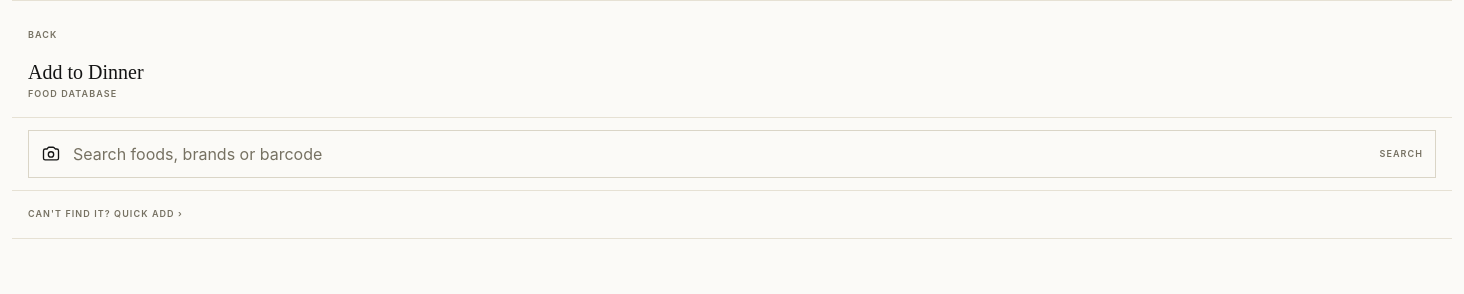
FoodPicker › shows a searching state while the database lookup is in flight
Type "skyr" into the search field. click: (720, 154)
box: 73,142 -> 1368,166
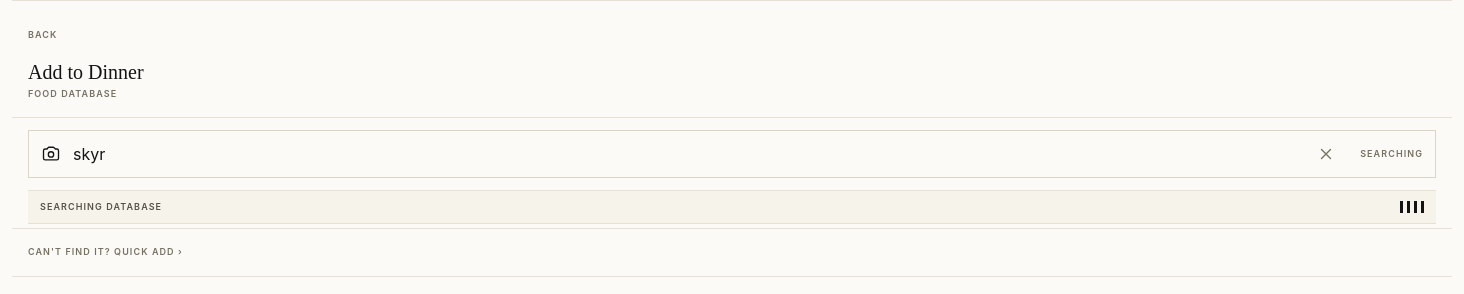
Result: the message with test id "food-searching" reads "Searching database" at 40,201 -> 162,212
